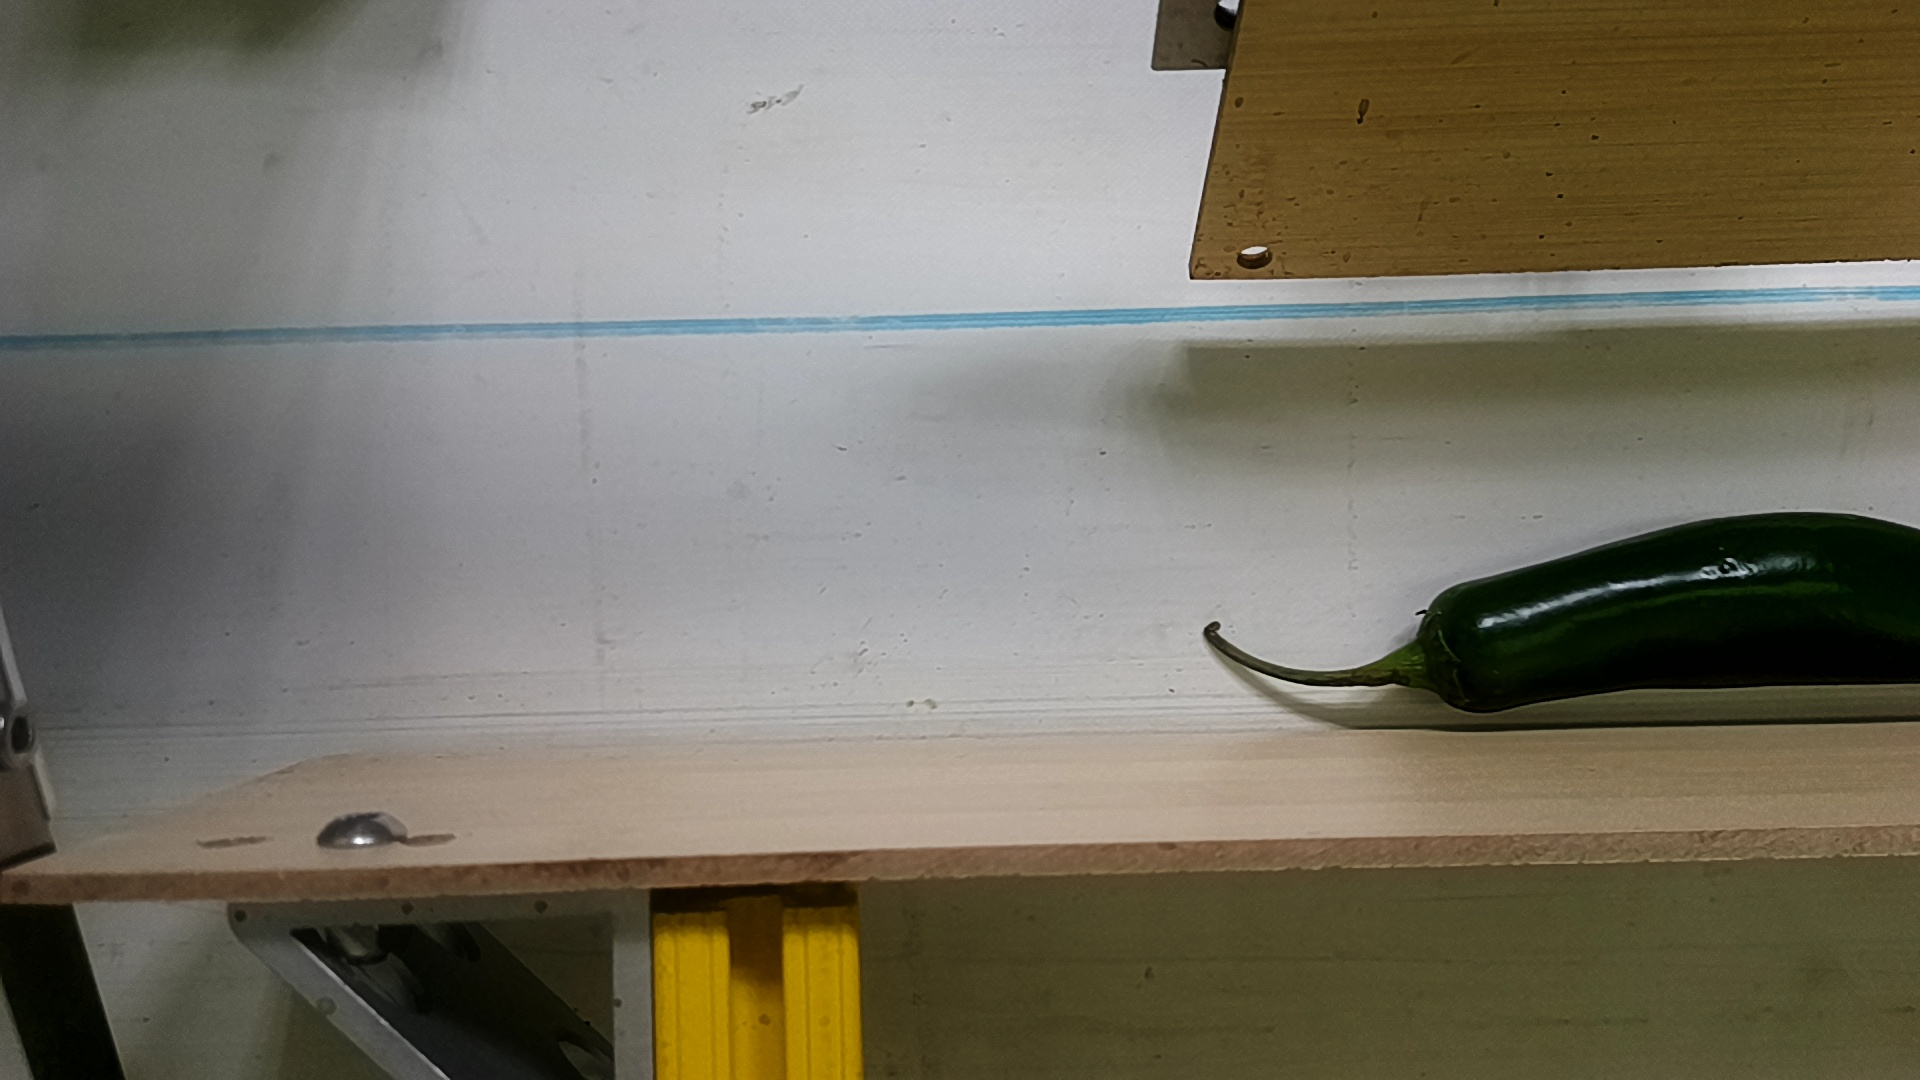Cut Point: (1399, 574, 1486, 725)
